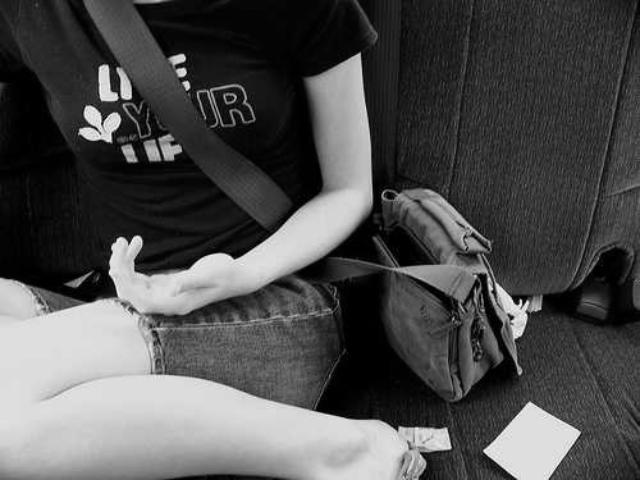Seatbelt: (76, 0, 300, 236)
